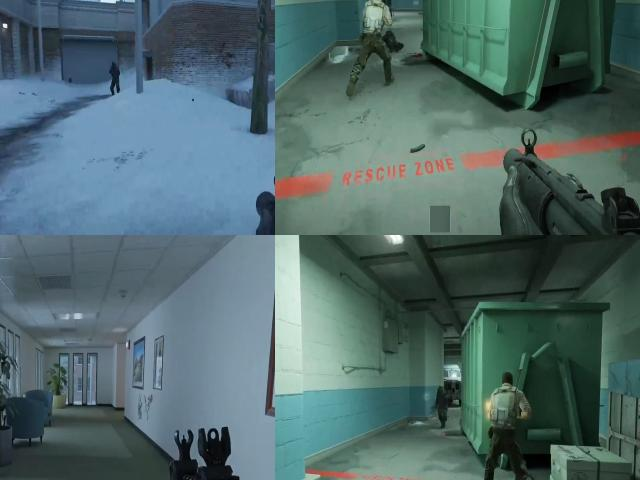CT: (110, 60, 120, 82)
CT-Head: (110, 60, 118, 72)
Dead: (430, 382, 450, 431)
T: (484, 378, 528, 446), (359, 0, 392, 46)
T-Head: (499, 368, 519, 396), (369, 0, 386, 7)
